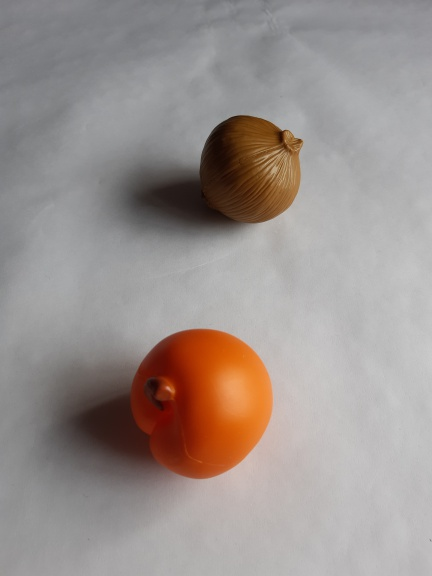apricot: (126, 319, 283, 488)
onion: (190, 108, 310, 235)
